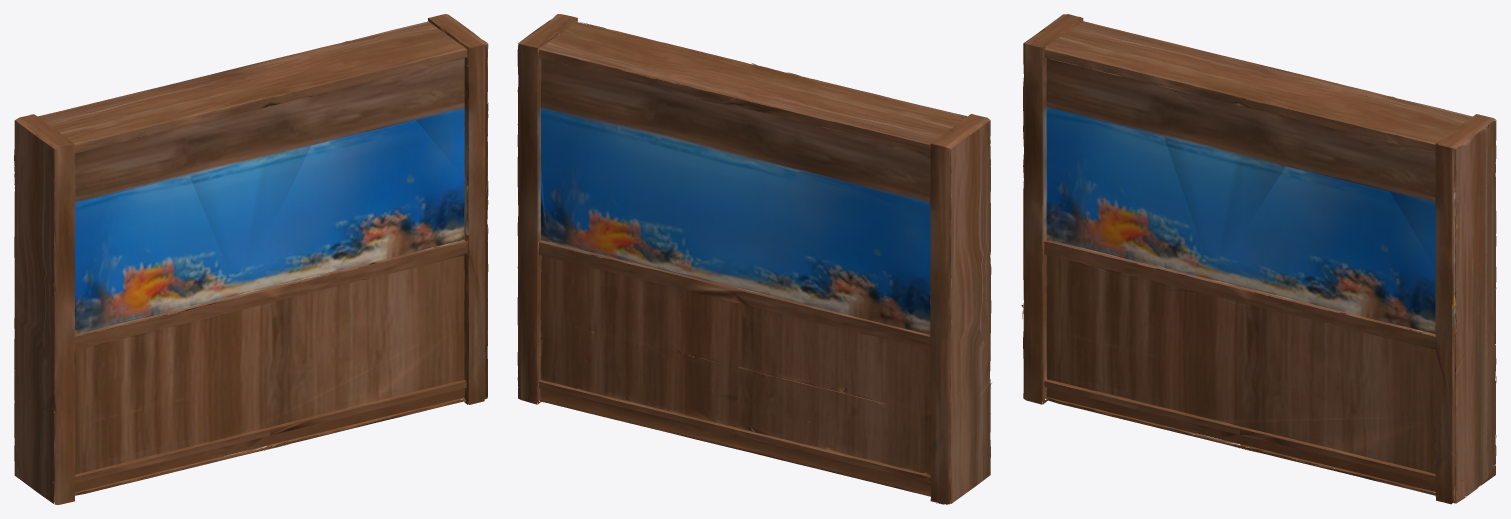
The model's file is PenthouseAquarium.glb.
The picture shows the model from 3 angles, left to right: view 1: azimuth 30°, elevation 25°; view 2: azimuth 150°, elevation 25°; view 3: azimuth 330°, elevation 25°; orthographic projection.
Parts seen in each view (by area): view 1: Penthouse-Aquarium_00, Penthouse-Aquarium_10, Penthouse-Aquarium_01, Penthouse-Aquarium_11; view 2: Penthouse-Aquarium_01, Penthouse-Aquarium_11, Penthouse-Aquarium_00, Penthouse-Aquarium_10; view 3: Penthouse-Aquarium_10, Penthouse-Aquarium_00, Penthouse-Aquarium_11, Penthouse-Aquarium_01.
Boxes of the visible parts, x1,y1,x2,y2 form: Penthouse-Aquarium_00: (34, 83, 270, 504); Penthouse-Aquarium_10: (251, 28, 488, 449); Penthouse-Aquarium_01: (14, 69, 250, 489); Penthouse-Aquarium_11: (232, 14, 467, 333); Penthouse-Aquarium_01: (735, 83, 970, 504); Penthouse-Aquarium_11: (517, 28, 754, 448); Penthouse-Aquarium_00: (755, 69, 991, 489); Penthouse-Aquarium_10: (538, 14, 772, 393); Penthouse-Aquarium_10: (1240, 83, 1476, 504); Penthouse-Aquarium_00: (1021, 28, 1258, 448); Penthouse-Aquarium_11: (1259, 69, 1496, 488); Penthouse-Aquarium_01: (1043, 14, 1277, 318).
Size of the model in its own units: 12.73 by 10.03 by 2.11.
1 material, 1 textured.
